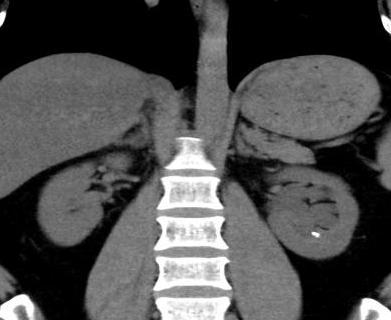Tas_Var: (311, 230, 317, 236), (315, 232, 320, 237)
